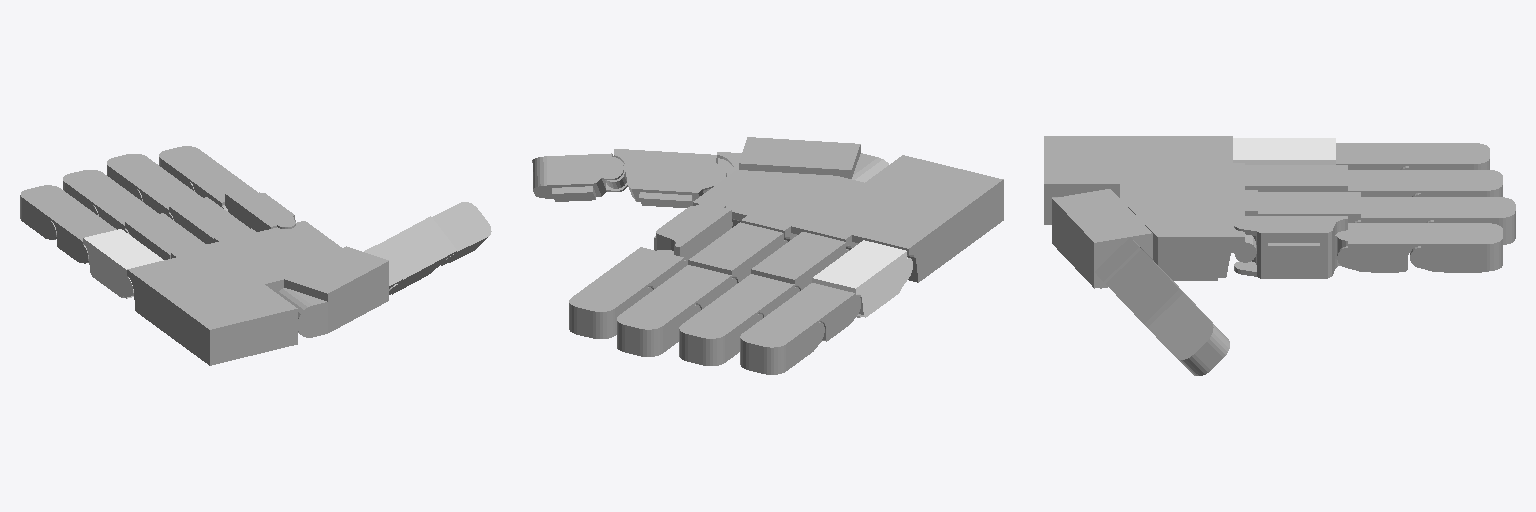
The robot description file, URDF, robot "tonghand_urdf":
<!-- <?xml version="1.0" encoding="utf-8"?> -->
<!-- This URDF was automatically created by SolidWorks to URDF Exporter! Originally created by [author] ([email redacted]) 
     Commit Version: 1.6.0-1-g15f4949  Build Version: 1.6.7594.29634
     For more information, please see http://wiki.ros.org/sw_urdf_exporter -->
<robot
  name="tonghand_urdf">
  <link
    name="base_link">
    <inertial>
      <origin
        xyz="0 0 0"
        rpy="0 0 0" />
      <mass
        value="0.10701" />
      <inertia
        ixx="4.0664E-05"
        ixy="6.4038E-08"
        ixz="1.9177E-06"
        iyy="5.6479E-05"
        iyz="7.7345E-07"
        izz="2.2587E-05" />
    </inertial>
    <visual>
      <origin
        xyz="0 0 0"
        rpy="0 0 0" />
      <geometry>
        <mesh
          filename="../meshes/base_link.STL" />
      </geometry>
      <material
        name="">
        <color
          rgba="0.75294 0.75294 0.75294 1" />
      </material>
    </visual>
    <collision>
      <origin
        xyz="0 0 0"
        rpy="0 0 0" />
      <geometry>
        <mesh
          filename="../meshes/base_link.STL" />
      </geometry>
    </collision>
  </link>
  <link
    name="thumb_1">
    <inertial>
      <origin
        xyz="0.0213809512788237 0.00830288099446848 -0.0368934211825852"
        rpy="0 0 0" />
      <mass
        value="0.0302068698189258" />
      <inertia
        ixx="4.47273437130782E-06"
        ixy="-2.41343638990869E-06"
        ixz="-2.18553315619696E-06"
        iyy="9.08198924826877E-06"
        iyz="-9.32985999670422E-07"
        izz="8.77443016411273E-06" />
    </inertial>
    <visual>
      <origin
        xyz="0 0 0"
        rpy="0 0 0" />
      <geometry>
        <mesh
          filename="../meshes/thumb_1.STL" />
      </geometry>
      <material
        name="">
        <color
          rgba="0.752941176470588 0.752941176470588 0.752941176470588 1" />
      </material>
    </visual>
    <collision>
      <origin
        xyz="0 0 0"
        rpy="0 0 0" />
      <geometry>
        <mesh
          filename="../meshes/thumb_1.STL" />
      </geometry>
    </collision>
  </link>
  <joint
    name="thumb_1"
    type="continuous">
    <origin
      xyz="0.0096545 -0.041173 0.026086"
      rpy="-1.5708 -0.41641 0" />
    <parent
      link="base_link" />
    <child
      link="thumb_1" />
    <axis
      xyz="0 0 1" />
    <limit
      lower="0"
      upper="1.57"
      effort="0"
      velocity="0" />
  </joint>
  <link
    name="thumb_2">
    <inertial>
      <origin
        xyz="0.0206182940275113 -0.0003046673401641 2.53574938824386E-13"
        rpy="0 0 0" />
      <mass
        value="0.012221479074921" />
      <inertia
        ixx="6.83102068665418E-07"
        ixy="-2.316217085618E-08"
        ixz="-3.53904923741628E-18"
        iyy="1.86039399915805E-06"
        iyz="1.24884420160806E-19"
        izz="1.76124570189393E-06" />
    </inertial>
    <visual>
      <origin
        xyz="0 0 0"
        rpy="0 0 0" />
      <geometry>
        <mesh
          filename="../meshes/thumb_2.STL" />
      </geometry>
      <material
        name="">
        <color
          rgba="0.752941176470588 0.752941176470588 0.752941176470588 1" />
      </material>
    </visual>
    <collision>
      <origin
        xyz="0 0 0"
        rpy="0 0 0" />
      <geometry>
        <mesh
          filename="../meshes/thumb_2.STL" />
      </geometry>
    </collision>
  </link>
  <joint
    name="thumb_2"
    type="continuous">
    <origin
      xyz="0.049122 0.023171 -0.023451"
      rpy="-2.4435 -0.3802 0.41641" />
    <parent
      link="thumb_1" />
    <child
      link="thumb_2" />
    <axis
      xyz="0 0 1" />
    <limit
      lower="-1.57"
      upper="0"
      effort="0"
      velocity="0" />
  </joint>
  <link
    name="thumb_3">
    <inertial>
      <origin
        xyz="0.0167824598987307 -0.00212872883309434 -3.08122971581781E-12"
        rpy="0 0 0" />
      <mass
        value="0.00745939900562187" />
      <inertia
        ixx="3.59429707528274E-07"
        ixy="6.07313946647049E-08"
        ixz="-8.23541017857794E-19"
        iyy="7.77158182113299E-07"
        iyz="4.5003919278805E-19"
        izz="6.51428092547374E-07" />
    </inertial>
    <visual>
      <origin
        xyz="0 0 0"
        rpy="0 0 0" />
      <geometry>
        <mesh
          filename="../meshes/thumb_3.STL" />
      </geometry>
      <material
        name="">
        <color
          rgba="0.752941176470588 0.752941176470588 0.752941176470588 1" />
      </material>
    </visual>
    <collision>
      <origin
        xyz="0 0 0"
        rpy="0 0 0" />
      <geometry>
        <mesh
          filename="../meshes/thumb_3.STL" />
      </geometry>
    </collision>
  </link>
  <joint
    name="thumb_3"
    type="continuous">
    <origin
      xyz="0.041 -0.00032615 0"
      rpy="0 0 0" />
    <parent
      link="thumb_2" />
    <child
      link="thumb_3" />
    <axis
      xyz="0 0 1" />
    <limit
      lower="-1.57"
      upper="0"
      effort="0"
      velocity="0" />
  </joint>
  <link
    name="index_1">
    <inertial>
      <origin
        xyz="0.0206182940275193 -2.14858231646839E-05 6.93889390390723E-18"
        rpy="0 0 0" />
      <mass
        value="0.012221479074921" />
      <inertia
        ixx="6.83102068665422E-07"
        ixy="2.31621708562653E-08"
        ixz="5.89026078332172E-23"
        iyy="1.86039399915805E-06"
        iyz="-1.31399405920735E-22"
        izz="1.76124570189393E-06" />
    </inertial>
    <visual>
      <origin
        xyz="0 0 0"
        rpy="0 0 0" />
      <geometry>
        <mesh
          filename="../meshes/index_1_obj.obj" />
      </geometry>
      <material
        name="">
        <color
          rgba="0.752941176470588 0.752941176470588 0.752941176470588 1" />
      </material>
    </visual>
    <collision>
      <origin
        xyz="0 0 0"
        rpy="0 0 0" />
      <geometry>
        <mesh
          filename="../meshes/index_1_obj.obj" />
      </geometry>
    </collision>
  </link>
  <joint
    name="index_1"
    type="continuous">
    <origin
      xyz="0.040154 -0.020691 0.027086"
      rpy="-1.5708 0 1.5708" />
    <parent
      link="base_link" />
    <child
      link="index_1" />
    <axis
      xyz="0 0 1" />
    <limit
      lower="0"
      upper="1.57"
      effort="0"
      velocity="0" />
  </joint>
  <link
    name="index_2">
    <inertial>
      <origin
        xyz="0.0152317229490134 3.42802053373108E-05 0"
        rpy="0 0 0" />
      <mass
        value="0.00625308632851355" />
      <inertia
        ixx="2.81797994660092E-07"
        ixy="2.23703220497108E-09"
        ixz="-1.43213634689837E-23"
        iyy="5.81864464611056E-07"
        iyz="-4.13998996125335E-23"
        izz="4.7329114501704E-07" />
    </inertial>
    <visual>
      <origin
        xyz="0 0 0"
        rpy="0 0 0" />
      <geometry>
        <mesh
          filename="../meshes/index_2.STL" />
      </geometry>
      <material
        name="">
        <color
          rgba="0.752941176470588 0.752941176470588 0.752941176470588 1" />
      </material>
    </visual>
    <collision>
      <origin
        xyz="0 0 0"
        rpy="0 0 0" />
      <geometry>
        <mesh
          filename="../meshes/index_2.STL" />
      </geometry>
    </collision>
  </link>
  <joint
    name="index_2"
    type="continuous">
    <origin
      xyz="0.041 0 0"
      rpy="0 0 0" />
    <parent
      link="index_1" />
    <child
      link="index_2" />
    <axis
      xyz="0 0 1" />
    <limit
      lower="0"
      upper="1.57"
      effort="0"
      velocity="0" />
  </joint>
  <link
    name="index_3">
    <inertial>
      <origin
        xyz="0.0168154407410035 0.000297686675871593 -6.93889390390723E-18"
        rpy="0 0 0" />
      <mass
        value="0.00745163347840583" />
      <inertia
        ixx="3.50729758374185E-07"
        ixy="-1.14358363153878E-08"
        ixz="-6.19619715471633E-23"
        iyy="7.93589625506845E-07"
        iyz="-7.39793916223962E-23"
        izz="6.56515010736982E-07" />
    </inertial>
    <visual>
      <origin
        xyz="0 0 0"
        rpy="0 0 0" />
      <geometry>
        <mesh
          filename="../meshes/index_3.STL" />
      </geometry>
      <material
        name="">
        <color
          rgba="0.752941176470588 0.752941176470588 0.752941176470588 1" />
      </material>
    </visual>
    <collision>
      <origin
        xyz="0 0 0"
        rpy="0 0 0" />
      <geometry>
        <mesh
          filename="../meshes/index_3.STL" />
      </geometry>
    </collision>
  </link>
  <joint
    name="index_3"
    type="continuous">
    <origin
      xyz="0.029 0 0"
      rpy="0 0 0" />
    <parent
      link="index_2" />
    <child
      link="index_3" />
    <axis
      xyz="0 0 1" />
    <limit
      lower="0"
      upper="1.57"
      effort="0"
      velocity="0" />
  </joint>
  <link
    name="middle_1">
    <inertial>
      <origin
        xyz="0.0206182940275192 -2.14858231645659E-05 -0.000400000000000006"
        rpy="0 0 0" />
      <mass
        value="0.012221479074921" />
      <inertia
        ixx="6.83102068665421E-07"
        ixy="2.31621708562653E-08"
        ixz="5.44029401262022E-23"
        iyy="1.86039399915804E-06"
        iyz="-3.06838458417649E-23"
        izz="1.76124570189393E-06" />
    </inertial>
    <visual>
      <origin
        xyz="0 0 0"
        rpy="0 0 0" />
      <geometry>
        <mesh
          filename="../meshes/middle_1.STL" />
      </geometry>
      <material
        name="">
        <color
          rgba="0.752941176470588 0.752941176470588 0.752941176470588 1" />
      </material>
    </visual>
    <collision>
      <origin
        xyz="0 0 0"
        rpy="0 0 0" />
      <geometry>
        <mesh
          filename="../meshes/middle_1.STL" />
      </geometry>
    </collision>
  </link>
  <joint
    name="middle_1"
    type="continuous">
    <origin
      xyz="0.015154 -0.015691 0.027086"
      rpy="-1.5708 0 1.5708" />
    <parent
      link="base_link" />
    <child
      link="middle_1" />
    <axis
      xyz="0 0 1" />
    <limit
      lower="0"
      upper="1.57"
      effort="0"
      velocity="0" />
  </joint>
  <link
    name="middle_2">
    <inertial>
      <origin
        xyz="0.0152317229490134 3.42802053372969E-05 1.73472347597681E-18"
        rpy="0 0 0" />
      <mass
        value="0.00625308632851354" />
      <inertia
        ixx="2.81797994660092E-07"
        ixy="2.23703220497124E-09"
        ixz="9.59697541416519E-23"
        iyy="5.81864464611055E-07"
        iyz="3.72987495237399E-24"
        izz="4.73291145017039E-07" />
    </inertial>
    <visual>
      <origin
        xyz="0 0 0"
        rpy="0 0 0" />
      <geometry>
        <mesh
          filename="../meshes/middle_2.STL" />
      </geometry>
      <material
        name="">
        <color
          rgba="0.752941176470588 0.752941176470588 0.752941176470588 1" />
      </material>
    </visual>
    <collision>
      <origin
        xyz="0 0 0"
        rpy="0 0 0" />
      <geometry>
        <mesh
          filename="../meshes/middle_2.STL" />
      </geometry>
    </collision>
  </link>
  <joint
    name="middle_2"
    type="continuous">
    <origin
      xyz="0.041 0 -0.0004"
      rpy="0 0 0" />
    <parent
      link="middle_1" />
    <child
      link="middle_2" />
    <axis
      xyz="0 0 1" />
    <limit
      lower="0"
      upper="1.57"
      effort="0"
      velocity="0" />
  </joint>
  <link
    name="middle_3">
    <inertial>
      <origin
        xyz="0.0168154407410034 0.0002976866758716 3.46944695195361E-18"
        rpy="0 0 0" />
      <mass
        value="0.00745163347840582" />
      <inertia
        ixx="3.50729758374184E-07"
        ixy="-1.14358363153877E-08"
        ixz="-2.28818091485651E-23"
        iyy="7.93589625506844E-07"
        iyz="-9.29509723535121E-24"
        izz="6.5651501073698E-07" />
    </inertial>
    <visual>
      <origin
        xyz="0 0 0"
        rpy="0 0 0" />
      <geometry>
        <mesh
          filename="../meshes/middle_3.STL" />
      </geometry>
      <material
        name="">
        <color
          rgba="0.752941176470588 0.752941176470588 0.752941176470588 1" />
      </material>
    </visual>
    <collision>
      <origin
        xyz="0 0 0"
        rpy="0 0 0" />
      <geometry>
        <mesh
          filename="../meshes/middle_3.STL" />
      </geometry>
    </collision>
  </link>
  <joint
    name="middle_3"
    type="continuous">
    <origin
      xyz="0.029 0 0"
      rpy="0 0 0" />
    <parent
      link="middle_2" />
    <child
      link="middle_3" />
    <axis
      xyz="0 0 1" />
    <limit
      lower="0"
      upper="1.57"
      effort="0"
      velocity="0" />
  </joint>
  <link
    name="ring_1">
    <inertial>
      <origin
        xyz="0.0206182940275192 -2.14858231647221E-05 0.000399999999999991"
        rpy="0 0 0" />
      <mass
        value="0.012221479074921" />
      <inertia
        ixx="6.83102068665422E-07"
        ixy="2.31621708562655E-08"
        ixz="-3.31833779725001E-23"
        iyy="1.86039399915805E-06"
        iyz="-8.58840580412324E-23"
        izz="1.76124570189393E-06" />
    </inertial>
    <visual>
      <origin
        xyz="0 0 0"
        rpy="0 0 0" />
      <geometry>
        <mesh
          filename="../meshes/ring_1.STL" />
      </geometry>
      <material
        name="">
        <color
          rgba="0.752941176470588 0.752941176470588 0.752941176470588 1" />
      </material>
    </visual>
    <collision>
      <origin
        xyz="0 0 0"
        rpy="0 0 0" />
      <geometry>
        <mesh
          filename="../meshes/ring_1.STL" />
      </geometry>
    </collision>
  </link>
  <joint
    name="ring_1"
    type="continuous">
    <origin
      xyz="-0.0098455 -0.020691 0.027086"
      rpy="-1.5708 0 1.5708" />
    <parent
      link="base_link" />
    <child
      link="ring_1" />
    <axis
      xyz="0 0 1" />
    <limit
      lower="0"
      upper="1.57"
      effort="0"
      velocity="0" />
  </joint>
  <link
    name="ring_2">
    <inertial>
      <origin
        xyz="0.0152317229490134 3.42802053373038E-05 -1.73472347597681E-18"
        rpy="0 0 0" />
      <mass
        value="0.00625308632851355" />
      <inertia
        ixx="2.81797994660092E-07"
        ixy="2.2370322049711E-09"
        ixz="-2.08495449111798E-23"
        iyy="5.81864464611055E-07"
        iyz="-2.33824894866571E-23"
        izz="4.7329114501704E-07" />
    </inertial>
    <visual>
      <origin
        xyz="0 0 0"
        rpy="0 0 0" />
      <geometry>
        <mesh
          filename="../meshes/ring_2.STL" />
      </geometry>
      <material
        name="">
        <color
          rgba="0.752941176470588 0.752941176470588 0.752941176470588 1" />
      </material>
    </visual>
    <collision>
      <origin
        xyz="0 0 0"
        rpy="0 0 0" />
      <geometry>
        <mesh
          filename="../meshes/ring_2.STL" />
      </geometry>
    </collision>
  </link>
  <joint
    name="ring_2"
    type="continuous">
    <origin
      xyz="0.041 0 0.0004"
      rpy="0 0 0" />
    <parent
      link="ring_1" />
    <child
      link="ring_2" />
    <axis
      xyz="0 0 1" />
    <limit
      lower="0"
      upper="1.57"
      effort="0"
      velocity="0" />
  </joint>
  <link
    name="ring_3">
    <inertial>
      <origin
        xyz="0.0168154407410034 0.000297686675871593 0"
        rpy="0 0 0" />
      <mass
        value="0.00745163347840583" />
      <inertia
        ixx="3.50729758374185E-07"
        ixy="-1.14358363153878E-08"
        ixz="-5.172522775928E-23"
        iyy="7.93589625506845E-07"
        iyz="-7.30600138204954E-23"
        izz="6.56515010736981E-07" />
    </inertial>
    <visual>
      <origin
        xyz="0 0 0"
        rpy="0 0 0" />
      <geometry>
        <mesh
          filename="../meshes/ring_3.STL" />
      </geometry>
      <material
        name="">
        <color
          rgba="0.752941176470588 0.752941176470588 0.752941176470588 1" />
      </material>
    </visual>
    <collision>
      <origin
        xyz="0 0 0"
        rpy="0 0 0" />
      <geometry>
        <mesh
          filename="../meshes/ring_3.STL" />
      </geometry>
    </collision>
  </link>
  <joint
    name="ring_3"
    type="continuous">
    <origin
      xyz="0.029 0 0"
      rpy="0 0 0" />
    <parent
      link="ring_2" />
    <child
      link="ring_3" />
    <axis
      xyz="0 0 1" />
    <limit
      lower="0"
      upper="1.57"
      effort="0"
      velocity="0" />
  </joint>
  <link
    name="little_1">
    <inertial>
      <origin
        xyz="0 0 0"
        rpy="0 0 0" />
      <mass
        value="0" />
      <inertia
        ixx="0"
        ixy="0"
        ixz="0"
        iyy="0"
        iyz="0"
        izz="0" />
    </inertial>
    <visual>
      <origin
        xyz="0 0 0"
        rpy="0 0 0" />
      <geometry>
        <mesh
          filename="../meshes/little_1.STL" />
      </geometry>
      <material
        name="">
        <color
          rgba="1 1 1 1" />
      </material>
    </visual>
    <collision>
      <origin
        xyz="0 0 0"
        rpy="0 0 0" />
      <geometry>
        <mesh
          filename="../meshes/little_1.STL" />
      </geometry>
    </collision>
  </link>
  <joint
    name="little_1"
    type="continuous">
    <origin
      xyz="-0.034846 -0.025691 0.027086"
      rpy="-1.5708 0 1.5708" />
    <parent
      link="base_link" />
    <child
      link="little_1" />
    <axis
      xyz="0 0 1" />
    <limit
      lower="0"
      upper="1.57"
      effort="0"
      velocity="0" />
  </joint>
  <link
    name="little_2">
    <inertial>
      <origin
        xyz="0.0152317229490134 3.42802053373004E-05 -6.93889390390723E-18"
        rpy="0 0 0" />
      <mass
        value="0.00625308632851354" />
      <inertia
        ixx="2.81797994660092E-07"
        ixy="2.23703220497117E-09"
        ixz="7.83072407490035E-24"
        iyy="5.81864464611055E-07"
        iyz="-8.43175147128047E-25"
        izz="4.73291145017039E-07" />
    </inertial>
    <visual>
      <origin
        xyz="0 0 0"
        rpy="0 0 0" />
      <geometry>
        <mesh
          filename="../meshes/little_2.STL" />
      </geometry>
      <material
        name="">
        <color
          rgba="0.752941176470588 0.752941176470588 0.752941176470588 1" />
      </material>
    </visual>
    <collision>
      <origin
        xyz="0 0 0"
        rpy="0 0 0" />
      <geometry>
        <mesh
          filename="../meshes/little_2.STL" />
      </geometry>
    </collision>
  </link>
  <joint
    name="little_2"
    type="continuous">
    <origin
      xyz="0.041 0 0.0004"
      rpy="0 0 0" />
    <parent
      link="little_1" />
    <child
      link="little_2" />
    <axis
      xyz="0 0 1" />
    <limit
      lower="0"
      upper="1.57"
      effort="0"
      velocity="0" />
  </joint>
  <link
    name="little_3">
    <inertial>
      <origin
        xyz="0.0168154407410034 0.000297686675871597 6.93889390390723E-18"
        rpy="0 0 0" />
      <mass
        value="0.00745163347840582" />
      <inertia
        ixx="3.50729758374184E-07"
        ixy="-1.14358363153877E-08"
        ixz="5.72914976887502E-23"
        iyy="7.93589625506844E-07"
        iyz="3.10355823717583E-24"
        izz="6.56515010736981E-07" />
    </inertial>
    <visual>
      <origin
        xyz="0 0 0"
        rpy="0 0 0" />
      <geometry>
        <mesh
          filename="../meshes/little_3.STL" />
      </geometry>
      <material
        name="">
        <color
          rgba="0.752941176470588 0.752941176470588 0.752941176470588 1" />
      </material>
    </visual>
    <collision>
      <origin
        xyz="0 0 0"
        rpy="0 0 0" />
      <geometry>
        <mesh
          filename="../meshes/little_3.STL" />
      </geometry>
    </collision>
  </link>
  <joint
    name="little_3"
    type="continuous">
    <origin
      xyz="0.029 0 0"
      rpy="0 0 0" />
    <parent
      link="little_2" />
    <child
      link="little_3" />
    <axis
      xyz="0 0 1" />
    <limit
      lower="0"
      upper="1.57"
      effort="0"
      velocity="0" />
  </joint>
</robot>

--- Render facts (derived) ---
3 views of the same robot in one strip: view 1: azimuth 30°, elevation 25°; view 2: azimuth 150°, elevation 25°; view 3: azimuth 270°, elevation 25° (orthographic).
Robot: tonghand_urdf — 16 links, 15 joints (15 continuous); root link base_link; default pose: every joint at zero.
Visible links, largest first — view 1: base_link, thumb_1, thumb_2, little_1, little_3, middle_1, thumb_3, ring_1, index_1, little_2, middle_3, ring_3 (+4 smaller); view 2: base_link, thumb_2, thumb_1, little_1, little_3, thumb_3, middle_3, ring_3, index_3, middle_1, ring_1, index_1 (+4 smaller); view 3: base_link, thumb_1, index_1, index_3, thumb_3, index_2, thumb_2, little_1, ring_1, middle_1, middle_3, ring_3 (+4 smaller).
Link boxes in pixels (bbox=[...]): base_link: bbox=[127, 221, 341, 365]; thumb_1: bbox=[277, 245, 402, 337]; thumb_2: bbox=[377, 216, 457, 294]; little_1: bbox=[83, 229, 163, 298]; little_3: bbox=[20, 185, 87, 239]; middle_1: bbox=[169, 197, 249, 243]; thumb_3: bbox=[432, 202, 491, 265]; ring_1: bbox=[125, 213, 206, 259]; index_1: bbox=[225, 192, 295, 231]; little_2: bbox=[51, 209, 116, 263]; middle_3: bbox=[107, 154, 174, 201]; ring_3: bbox=[63, 170, 130, 215]; base_link: bbox=[693, 155, 1003, 282]; thumb_2: bbox=[605, 149, 726, 207]; thumb_1: bbox=[708, 137, 888, 190]; little_1: bbox=[812, 240, 912, 317]; little_3: bbox=[740, 309, 824, 374]; thumb_3: bbox=[532, 153, 627, 201]; middle_3: bbox=[617, 292, 700, 356]; ring_3: bbox=[679, 301, 762, 365]; index_3: bbox=[569, 274, 652, 338]; middle_1: bbox=[688, 222, 787, 282]; ring_1: bbox=[751, 232, 849, 290]; index_1: bbox=[654, 200, 731, 259]; base_link: bbox=[1044, 136, 1257, 280]; thumb_1: bbox=[1052, 189, 1153, 288]; index_1: bbox=[1234, 216, 1347, 278]; index_3: bbox=[1410, 223, 1502, 272]; thumb_3: bbox=[1148, 293, 1229, 375]; index_2: bbox=[1337, 223, 1420, 272]; thumb_2: bbox=[1106, 249, 1195, 327]; little_1: bbox=[1233, 138, 1335, 164]; ring_1: bbox=[1245, 165, 1347, 191]; middle_1: bbox=[1258, 192, 1360, 222]; middle_3: bbox=[1426, 197, 1515, 244]; ring_3: bbox=[1412, 170, 1502, 196].
Size in the robot's own frame: 0.1802 by 0.1875 by 0.0267 metres.
16 mesh visuals loaded from 16 distinct referenced files (15 binary STL, 1 OBJ).
